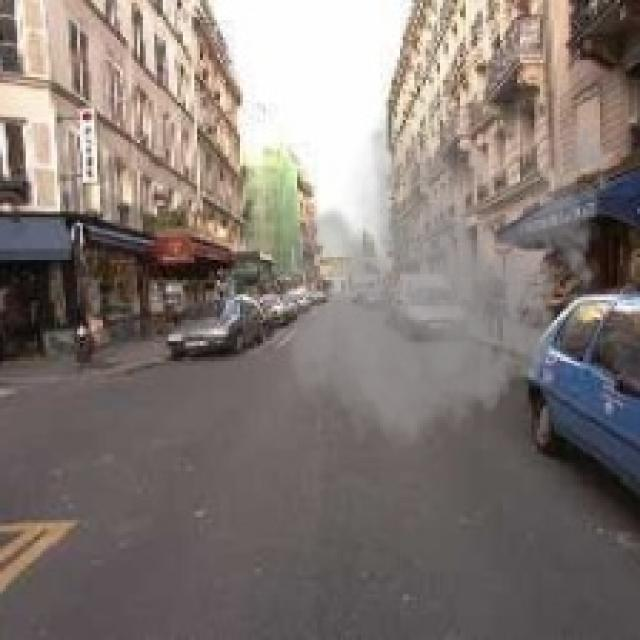smoke: (254, 60, 620, 463)
